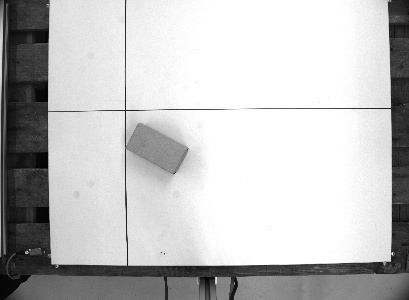b2: (122, 120, 192, 177)
